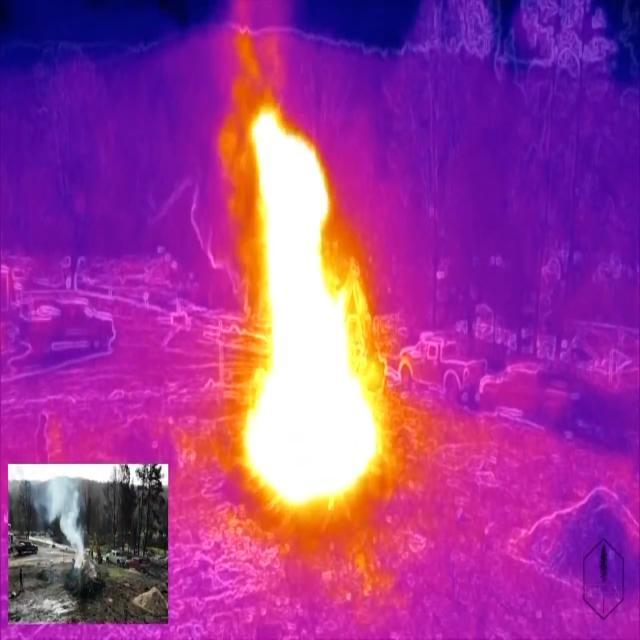fire: (243, 104, 384, 510)
